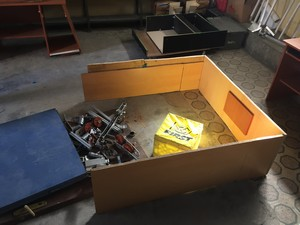cube: (152, 112, 205, 160)
